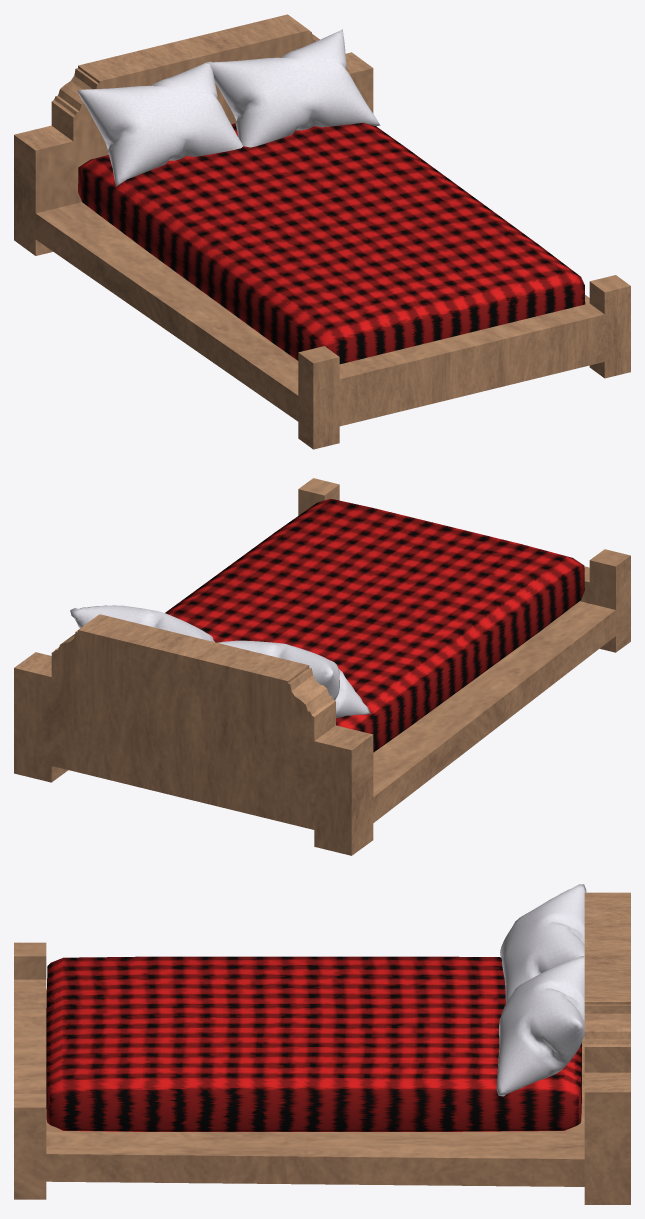
The model's file is Cama.fbx.
3 views of the same model, one above another, from view 1: azimuth 30°, elevation 25°; view 2: azimuth 150°, elevation 25°; view 3: azimuth 270°, elevation 25° (orthographic). The views are drawn at different scales.
Visible parts, largest first — view 1: Cama; view 2: Cama; view 3: Cama.
Part boxes in pixels (<box>): Cama: <box>14,14,630,449</box>; Cama: <box>14,478,630,855</box>; Cama: <box>14,884,630,1204</box>.
Bounding box in the file's own units: 371 × 167 × 550.
